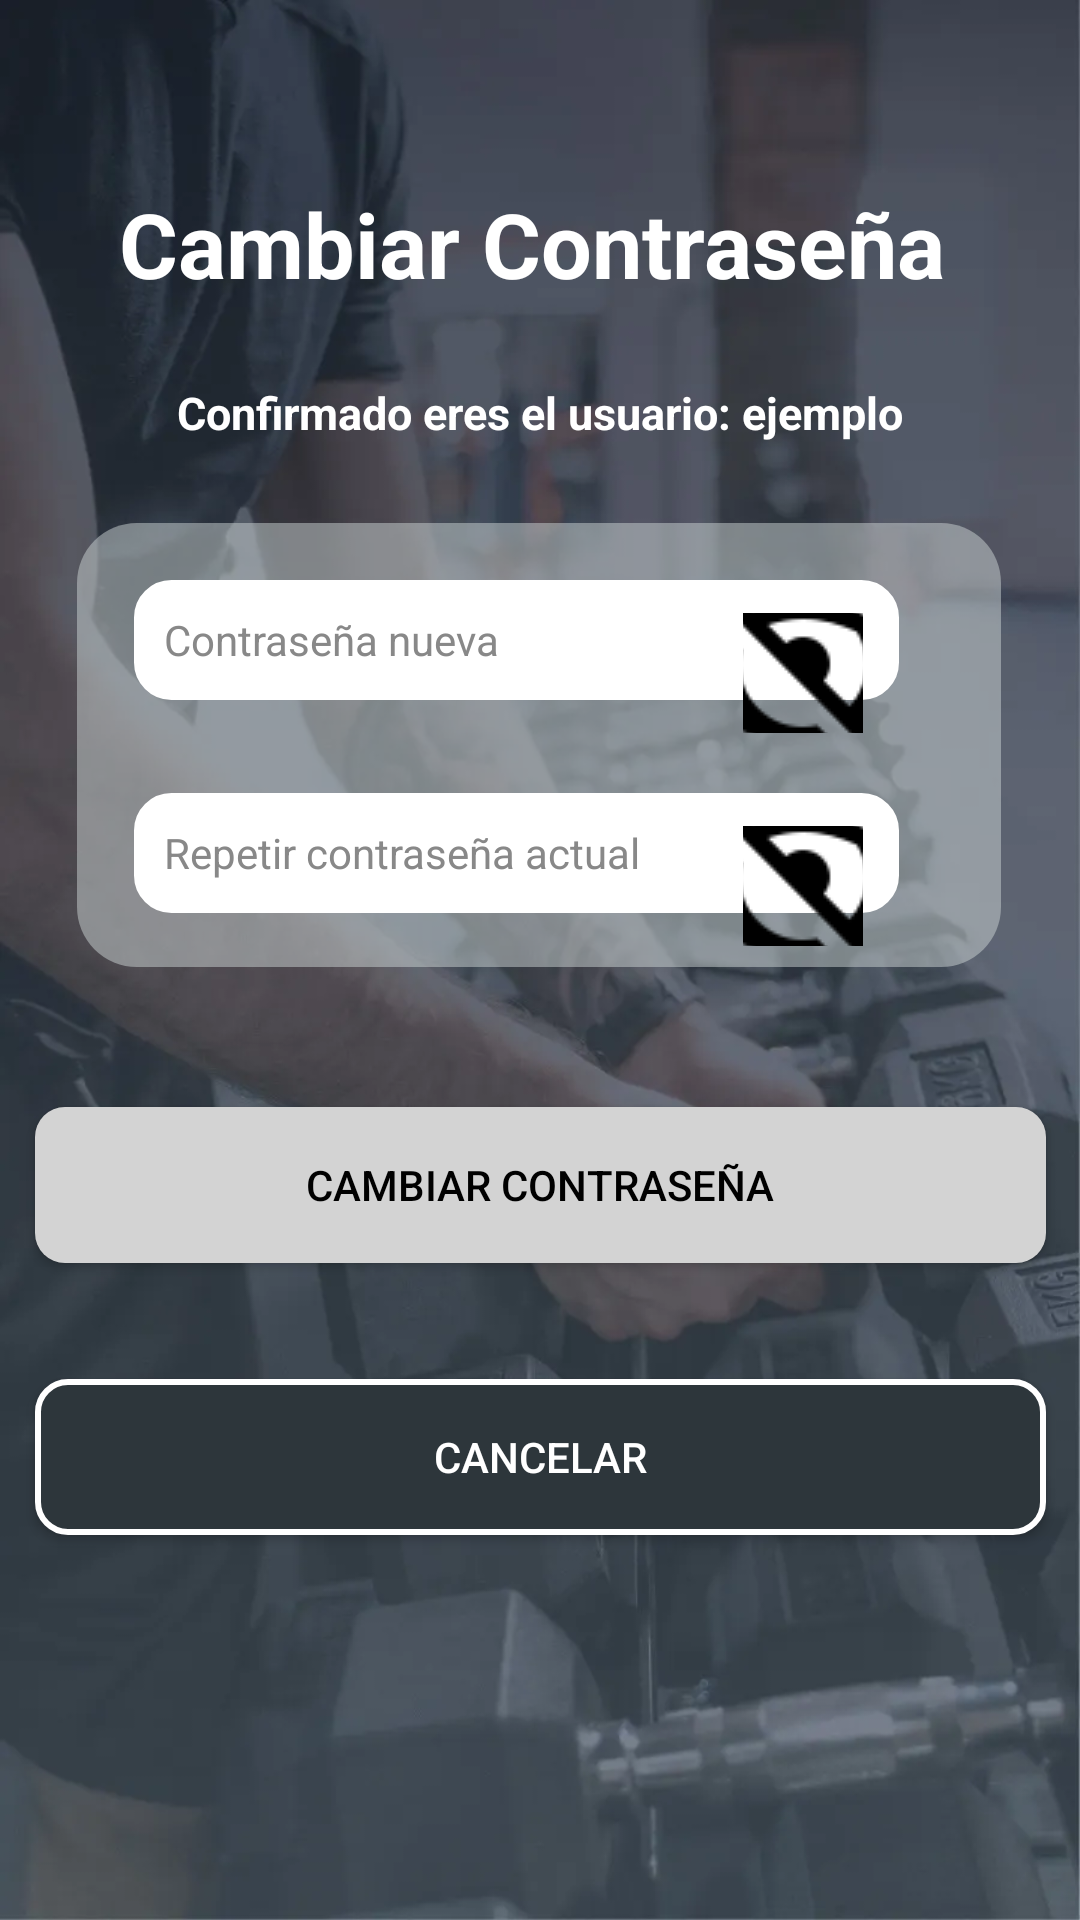

Icons on this 1080x1920 Android screen, each with the point to tap as (x=x, y=y):
Mostrar/Ocultar contraseña: (x=803, y=673), (x=803, y=886)
